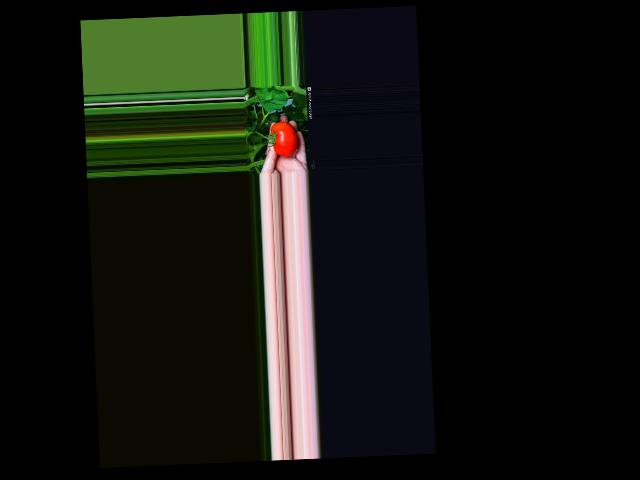tomato: (270, 121, 299, 158)
